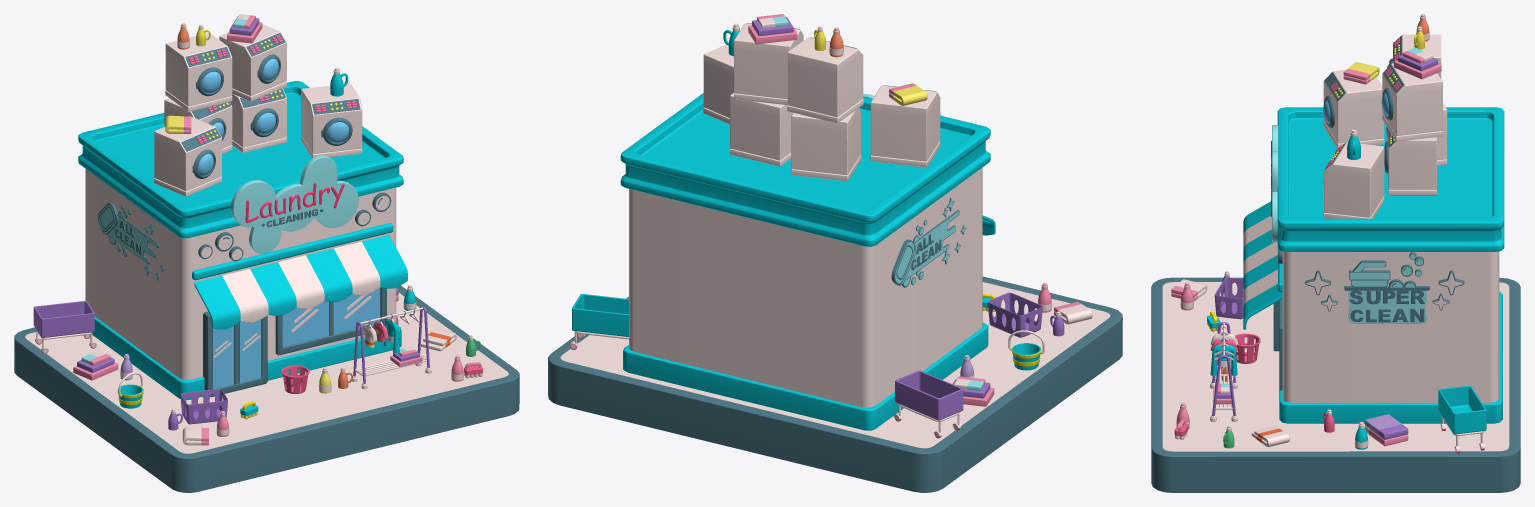
File: Public_Island_13.glb
3 views of the same model, side by side, from view 1: azimuth 30°, elevation 25°; view 2: azimuth 150°, elevation 25°; view 3: azimuth 270°, elevation 25° (orthographic). The views are drawn at different scales.
Parts seen in each view (by area): view 1: Public_13_Laundry_1, Public_13_Base_1, Public_13_Launfry_Sign_1, Public_13_Drying_machine_2, Public_13_Washng_machine_3, Public_13_Drying_machine_3, Public_13_Drying_machine_1, Public_13_Washng_machine_1, Public_13_Cart_On_Wheels_2, Public_13_All_Clean_1, Public_13_Floor_hanger_1, Public_13_Washng_machine_2 (+5 smaller); view 2: Public_13_Laundry_1, Public_13_Base_1, Public_13_Drying_machine_2, Public_13_Washng_machine_3, Public_13_Washng_machine_2, Public_13_Washng_machine_1, Public_13_Drying_machine_1, Public_13_Cart_On_Wheels_2, Public_13_All_Clean_1, Public_13_Cart_On_Wheels_1, Public_13_Drying_machine_3, Public_13_Basket_1 (+4 smaller); view 3: Public_13_Laundry_1, Public_13_Base_1, Public_13_Super_Clean_1, Public_13_Drying_machine_3, Public_13_Drying_machine_1, Public_13_Washng_machine_3, Public_13_Washng_machine_1, Public_13_Cart_On_Wheels_1, Public_13_Basket_1, Public_13_Towels_1, Public_13_Towels_3, Public_13_Floor_hanger_1 (+8 smaller).
Part boxes in pixels (bbox=[...]): Public_13_Laundry_1: bbox=[78, 81, 407, 399]; Public_13_Base_1: bbox=[14, 285, 519, 492]; Public_13_Launfry_Sign_1: bbox=[230, 155, 358, 253]; Public_13_Drying_machine_2: bbox=[165, 33, 232, 111]; Public_13_Washng_machine_3: bbox=[154, 116, 221, 196]; Public_13_Drying_machine_3: bbox=[301, 83, 362, 158]; Public_13_Drying_machine_1: bbox=[219, 24, 286, 101]; Public_13_Washng_machine_1: bbox=[230, 88, 287, 152]; Public_13_Cart_On_Wheels_2: bbox=[33, 300, 97, 353]; Public_13_All_Clean_1: bbox=[98, 202, 164, 280]; Public_13_Floor_hanger_1: bbox=[352, 306, 431, 389]; Public_13_Washng_machine_2: bbox=[164, 98, 232, 153]; Public_13_Laundry_1: bbox=[620, 93, 995, 430]; Public_13_Base_1: bbox=[548, 276, 1122, 492]; Public_13_Drying_machine_2: bbox=[787, 37, 863, 123]; Public_13_Washng_machine_3: bbox=[870, 85, 940, 167]; Public_13_Washng_machine_2: bbox=[791, 108, 861, 181]; Public_13_Washng_machine_1: bbox=[729, 93, 793, 166]; Public_13_Drying_machine_1: bbox=[734, 23, 803, 105]; Public_13_Cart_On_Wheels_2: bbox=[893, 370, 963, 438]; Public_13_All_Clean_1: bbox=[891, 197, 966, 287]; Public_13_Cart_On_Wheels_1: bbox=[569, 294, 628, 349]; Public_13_Drying_machine_3: bbox=[703, 44, 733, 124]; Public_13_Basket_1: bbox=[988, 292, 1042, 337]; Public_13_Laundry_1: bbox=[1243, 107, 1504, 423]; Public_13_Base_1: bbox=[1151, 277, 1520, 492]; Public_13_Super_Clean_1: bbox=[1344, 252, 1429, 323]; Public_13_Drying_machine_3: bbox=[1323, 142, 1384, 218]; Public_13_Drying_machine_1: bbox=[1381, 63, 1442, 141]; Public_13_Washng_machine_3: bbox=[1323, 69, 1384, 148]; Public_13_Washng_machine_1: bbox=[1384, 129, 1436, 195]; Public_13_Cart_On_Wheels_1: bbox=[1438, 385, 1486, 453]; Public_13_Basket_1: bbox=[1214, 277, 1243, 319]; Public_13_Towels_1: bbox=[1365, 414, 1408, 446]; Public_13_Towels_3: bbox=[1394, 47, 1441, 79]; Public_13_Floor_hanger_1: bbox=[1210, 322, 1237, 421].
Bounding box in the file's own units: 12.57 × 12.02 × 10.96.
55 materials, 55 textured.
